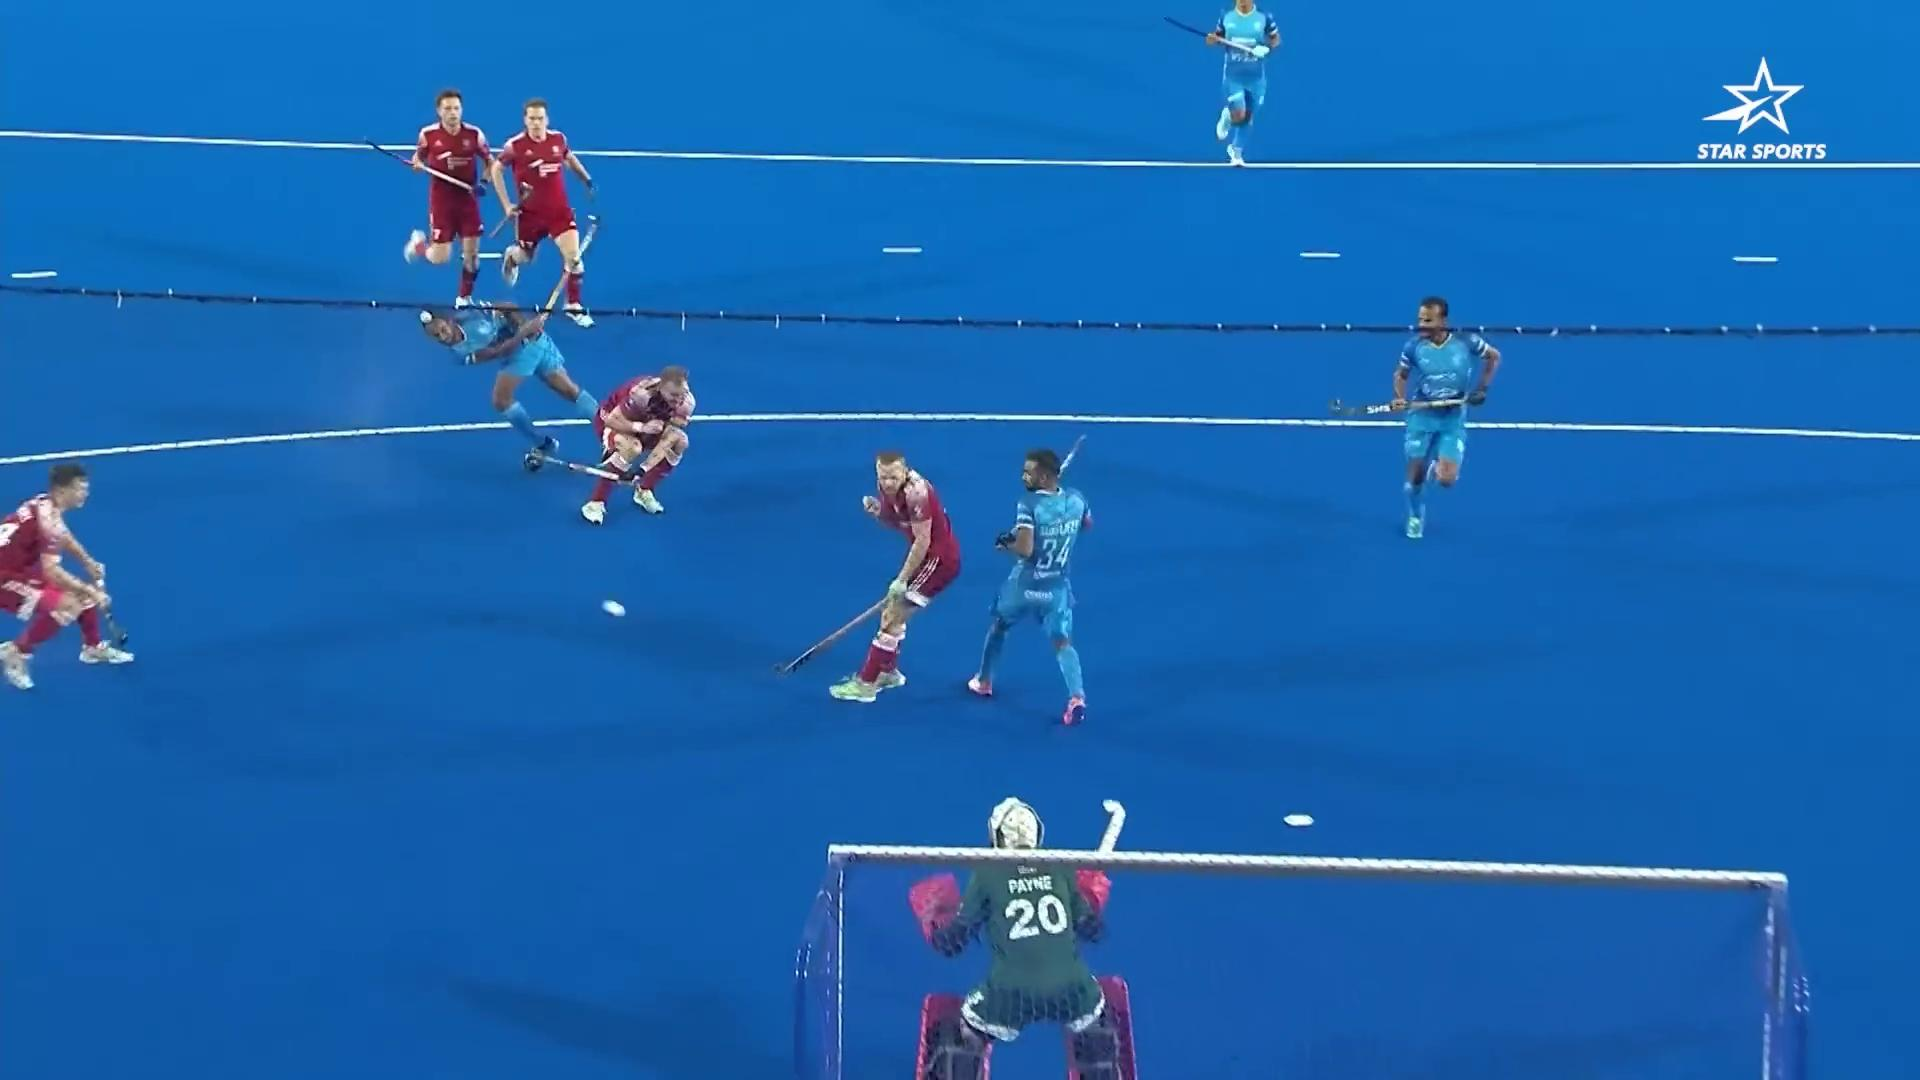ball: (597, 593, 637, 624)
